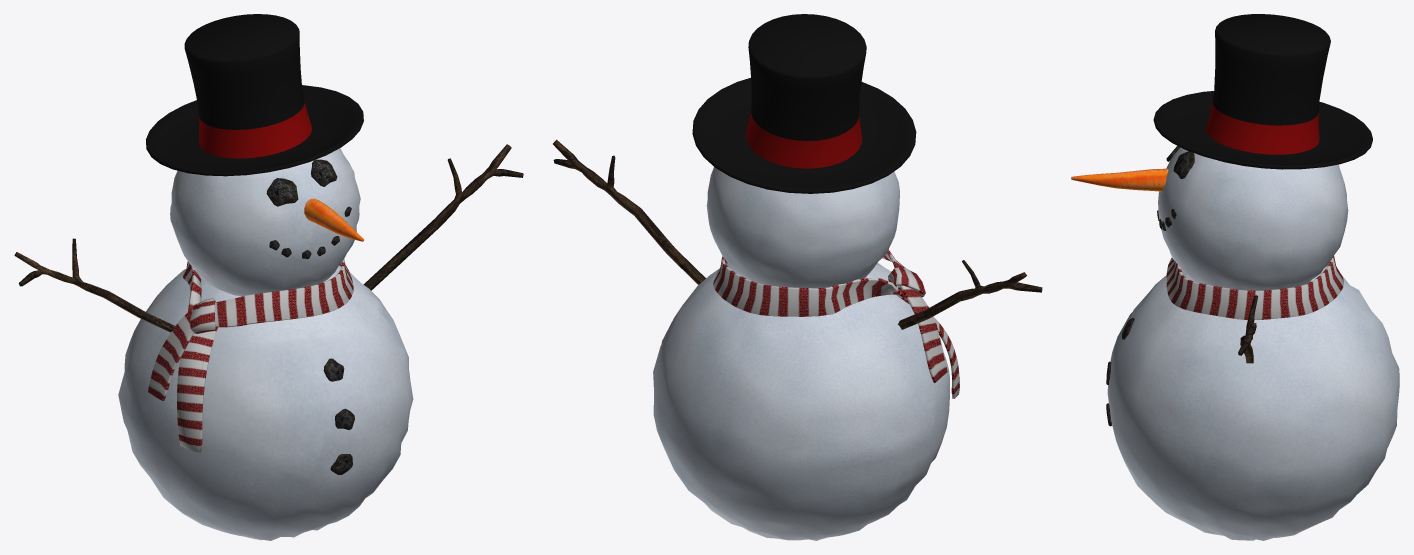
File: snowman.glb
3 renders of one model, left to right at view 1: azimuth 30°, elevation 25°; view 2: azimuth 150°, elevation 25°; view 3: azimuth 270°, elevation 25°, orthographic.
Size of the model in its own units: 2.65 by 2.53 by 1.53.
1 material, 1 textured.
